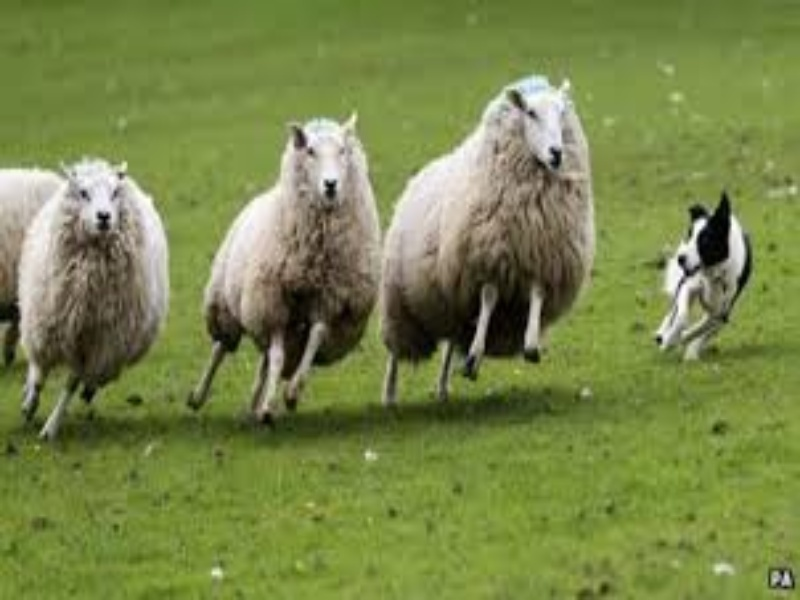dog: (651, 189, 753, 366)
